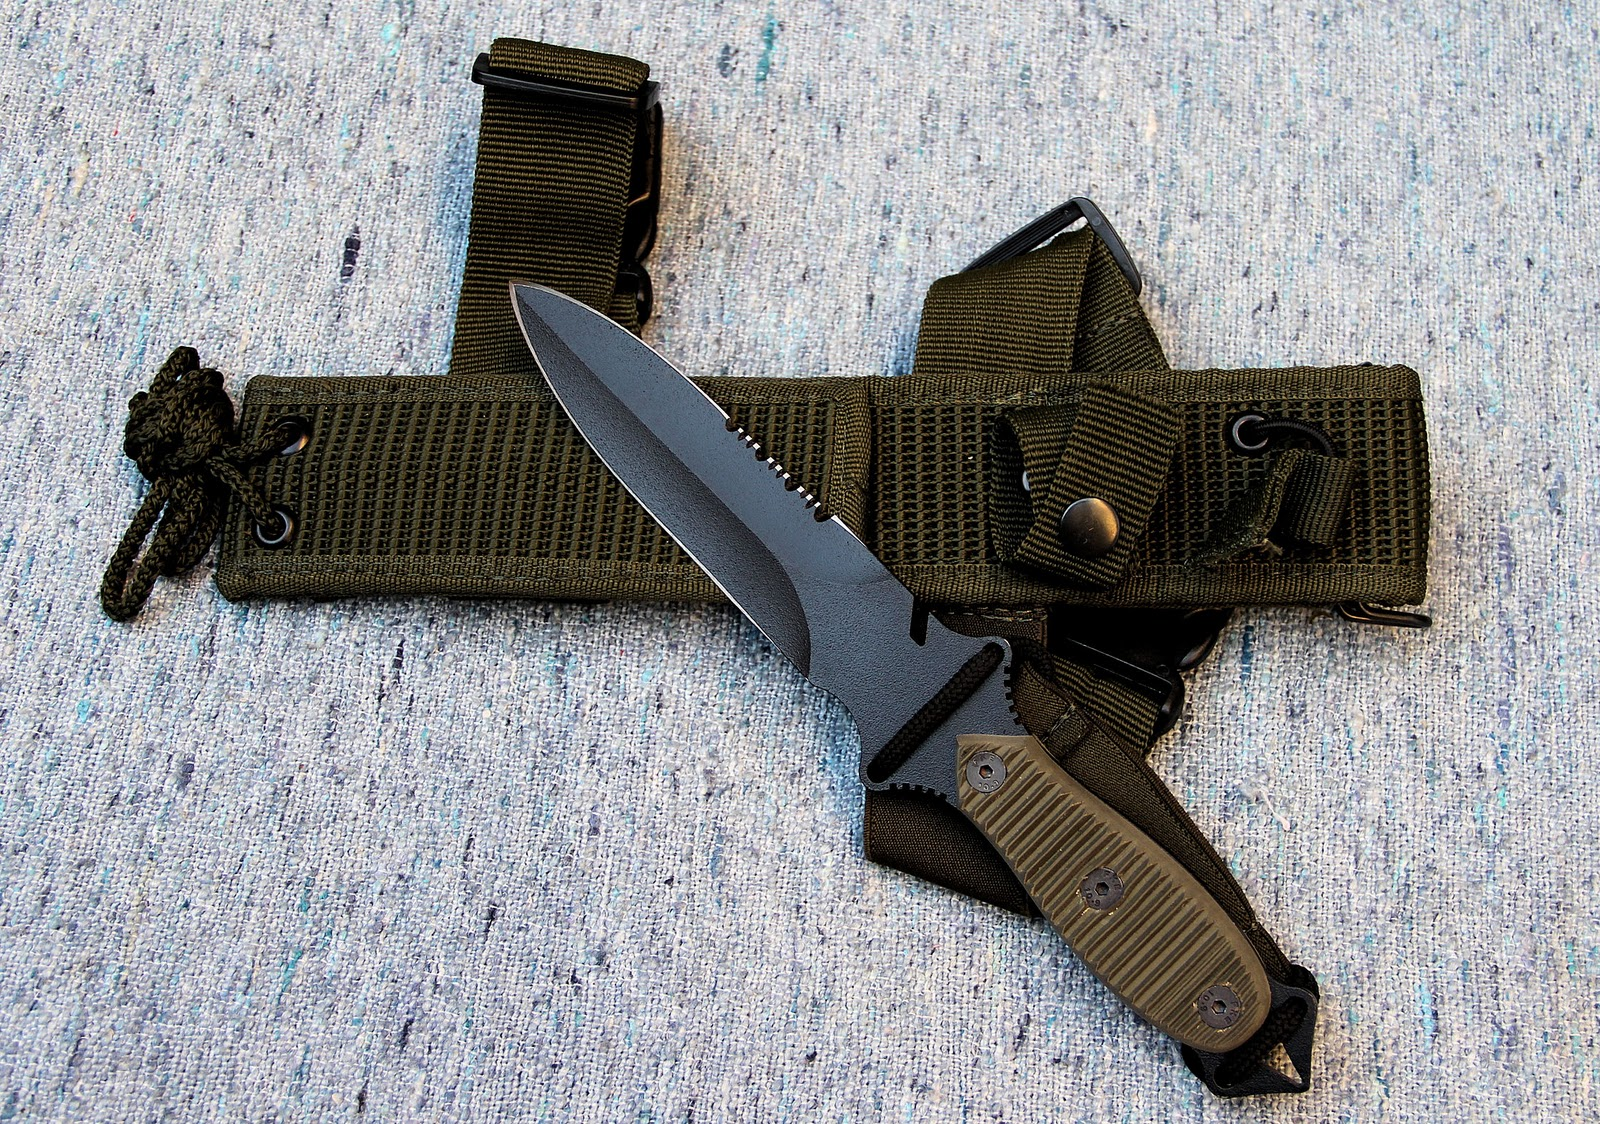knife: (491, 262, 999, 787)
